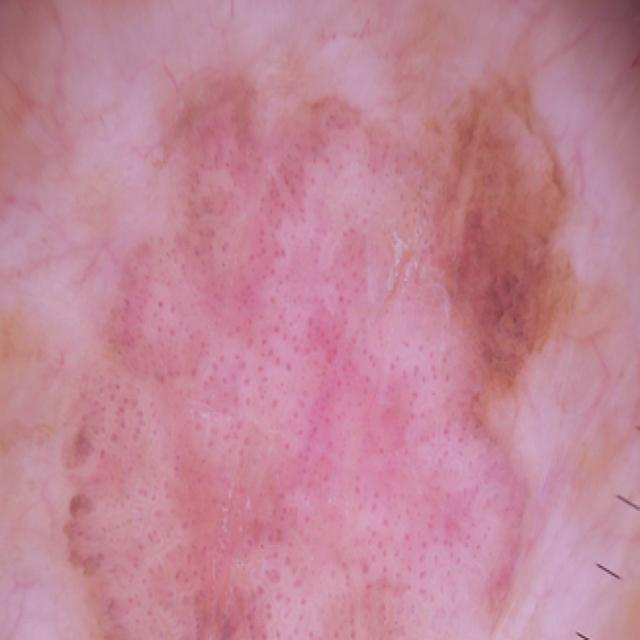Carcinoma: (48, 32, 640, 639)
